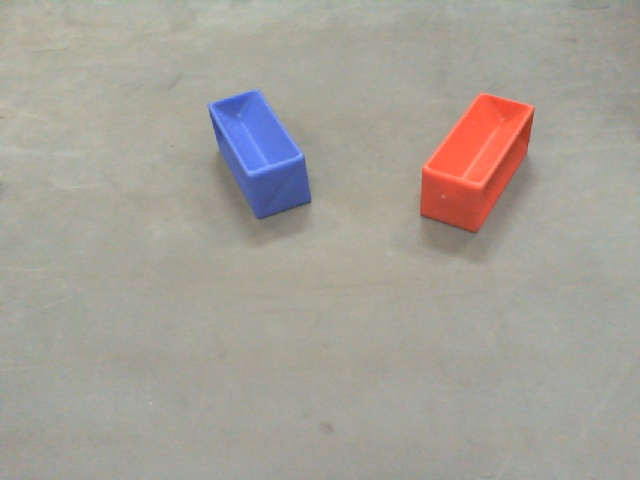BlueSample: (205, 91, 310, 221)
RedSample: (416, 91, 535, 235)
